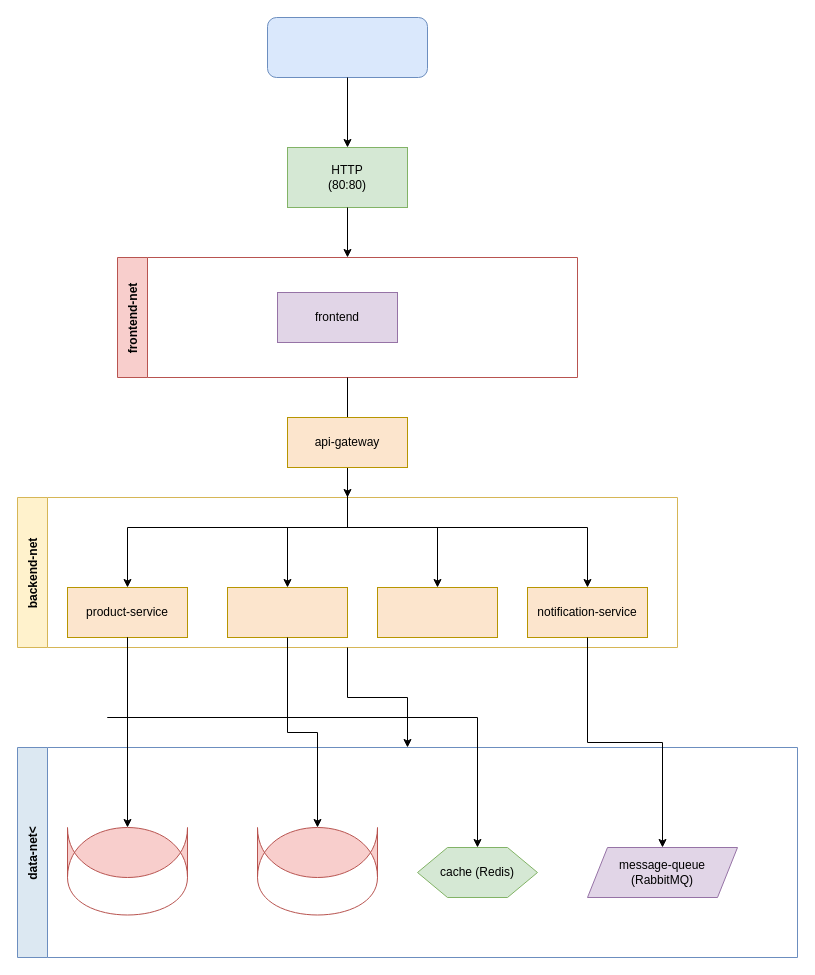
Some shapes in this 815 by 975 pixel diagram are drawn without their labels. The shapes that lost their labels are listed below. From the top down, each one's centre as x and y in pixels, then its label:
the point at 347,47: Usuari / Navegador
the point at 287,612: order-service
the point at 437,612: user-service
the point at 127,852: db-products (MySQL)
the point at 317,852: db-orders (MySQL)
